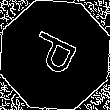P_SE: (25, 27, 85, 83)
